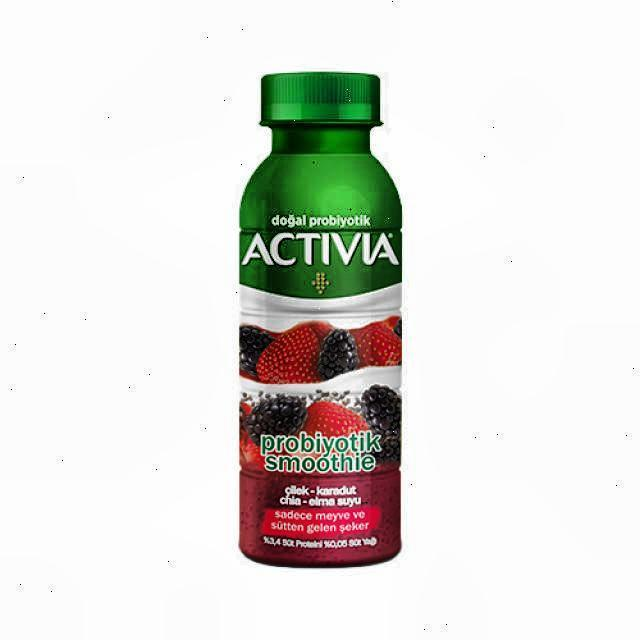plastic: (238, 71, 403, 568)
